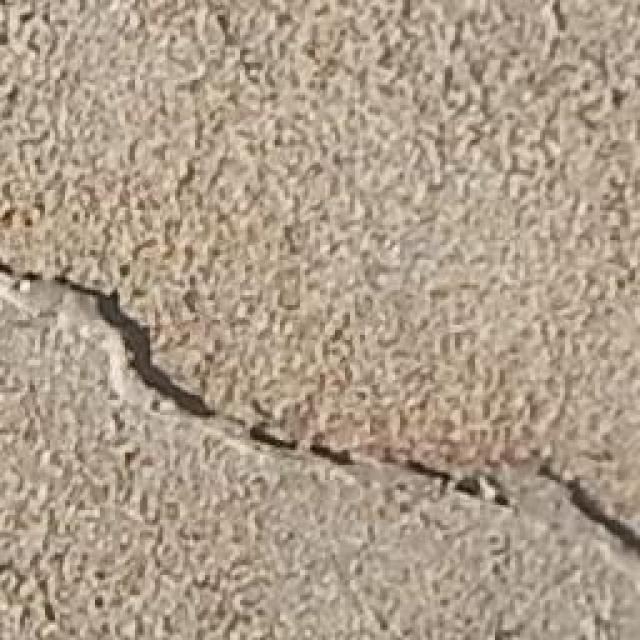concrete-crack: (0, 251, 640, 593)
